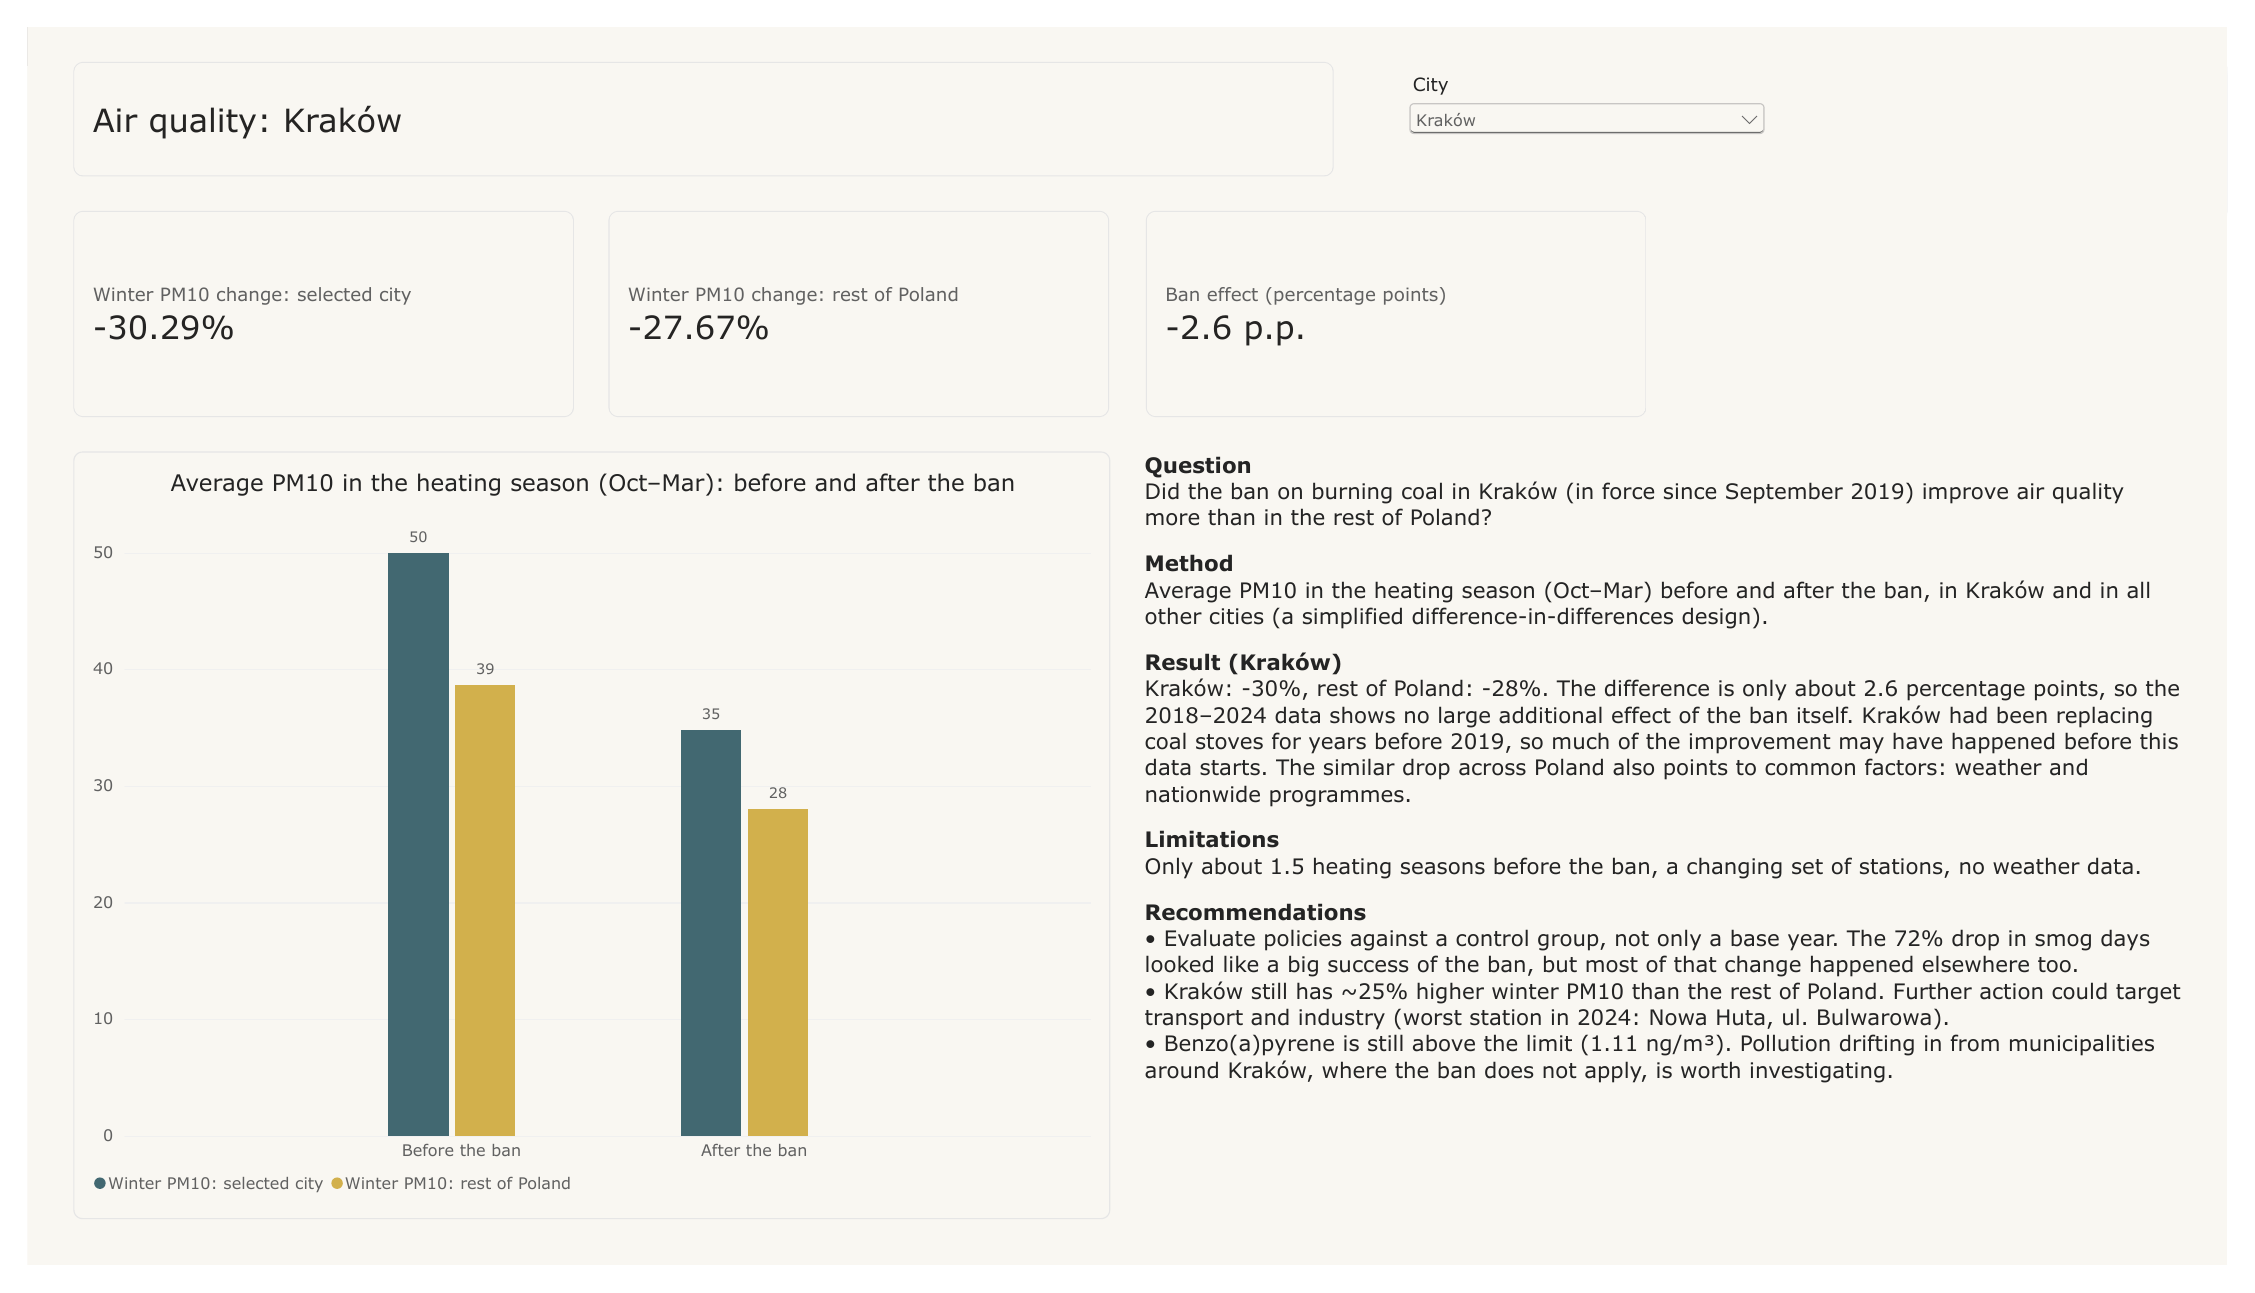

The page's visual inventory and layout, read from the dashboard file:
{"tool":"powerbi","page":{"name":"\tDid the ban work?","canvas":[1920,1080],"ordinal":2},"visuals":[{"type":"slicer","fields":{"Values":["Stacje.Miejscowosc"]},"box":[1201,40,320,80],"z":0},{"type":"cardVisual","fields":{"Data":["Pomiary.Tytul strony"]},"box":[40,30,1100,100],"z":2000},{"type":"clusteredColumnChart","title":"Average PM10 in the heating season (Oct–Mar): before and after the ban","fields":{"Category":["Kalendarz.Okres zakazu"],"Y":["Pomiary.PM10 grzewczy","Pomiary.PM10 grzewczy reszta Polski"]},"box":[40,370,905,670],"z":2002},{"type":"cardVisual","fields":{"Data":["Pomiary.Zmiana grzewczy miasto"]},"box":[40,160,437,180],"z":2003},{"type":"cardVisual","fields":{"Data":["Pomiary.Zmiana grzewczy reszta Polski"]},"box":[507,160,437,180],"z":2004},{"type":"cardVisual","fields":{"Data":["Pomiary.Efekt zakazu"]},"box":[976,160,437,180],"z":2005},{"type":"textbox","box":[975,370,905,670],"z":2006}]}

Visuals, with their boxes in screenshot pixels (x1, y1, x2, y2), scaled from the page's 1920x1080 canvas onto the 2255x1293 screenshot:
slicer - Stacje.Miejscowosc: {"left": 1411, "top": 48, "right": 1786, "bottom": 144}
cardVisual - Pomiary.Tytul strony: {"left": 47, "top": 36, "right": 1339, "bottom": 156}
"Average PM10 in the heating season (Oct–Mar): before and after the ban" clusteredColumnChart: {"left": 47, "top": 443, "right": 1110, "bottom": 1245}
cardVisual - Pomiary.Zmiana grzewczy miasto: {"left": 47, "top": 192, "right": 560, "bottom": 407}
cardVisual - Pomiary.Zmiana grzewczy reszta Polski: {"left": 595, "top": 192, "right": 1109, "bottom": 407}
cardVisual - Pomiary.Efekt zakazu: {"left": 1146, "top": 192, "right": 1660, "bottom": 407}
textbox: {"left": 1145, "top": 443, "right": 2208, "bottom": 1245}
